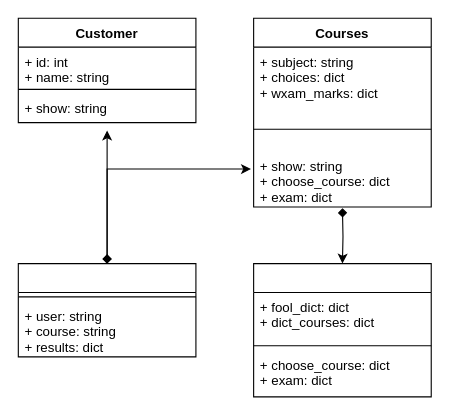
This 450x415 diagram has some shape labels left out. The shapes that lost their labels are listed below. From the top down, each one's box as (x1, y1, x2, y2) in pixels, then its label:
(17, 263, 196, 357): Show
(253, 263, 431, 397): Describe
